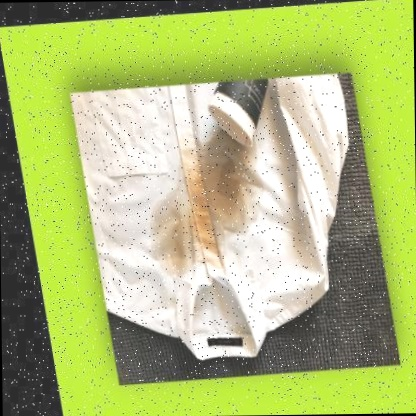coffee: (206, 143, 246, 213), (158, 206, 205, 250)
